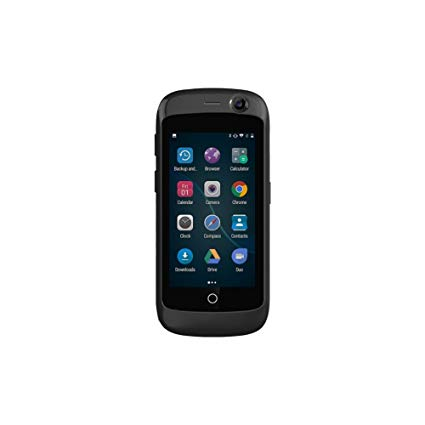phone: (152, 83, 278, 341)
